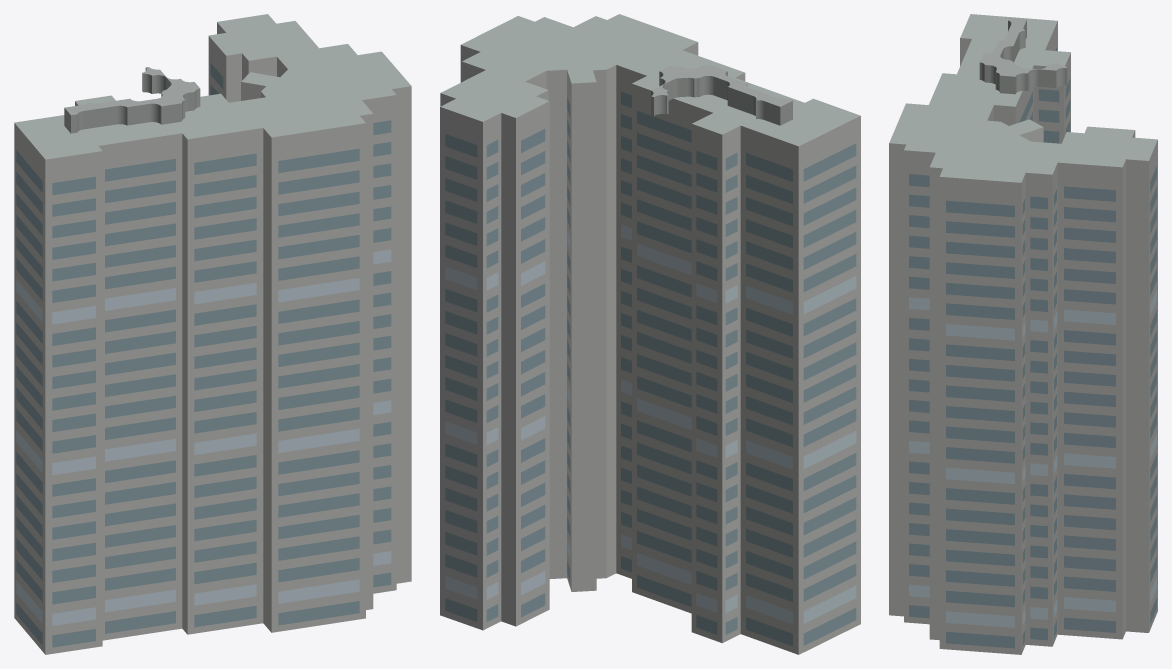
File: fallback-mapo-raemian-prugio-408.glb
The picture shows the model from 3 angles, left to right: view 1: azimuth 30°, elevation 25°; view 2: azimuth 150°, elevation 25°; view 3: azimuth 270°, elevation 25°; orthographic projection. The views are drawn at different scales.
Visible parts, largest first — view 1: fallback-mapo-raemian-prugio-408; view 2: fallback-mapo-raemian-prugio-408; view 3: fallback-mapo-raemian-prugio-408.
Part boxes in pixels (<box>): fallback-mapo-raemian-prugio-408: <box>14,14,411,654</box>; fallback-mapo-raemian-prugio-408: <box>440,14,860,654</box>; fallback-mapo-raemian-prugio-408: <box>889,14,1157,654</box>.
Size of the model in its own units: 49.55 by 67 by 33.33.
